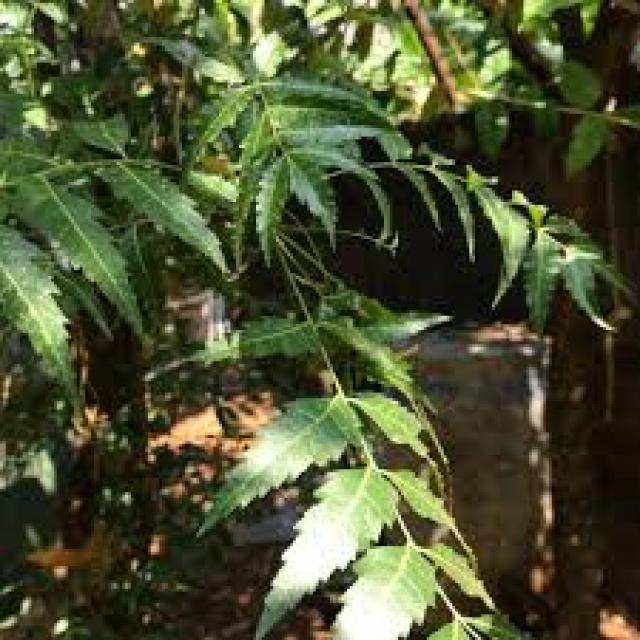Wet: (135, 263, 579, 640)
